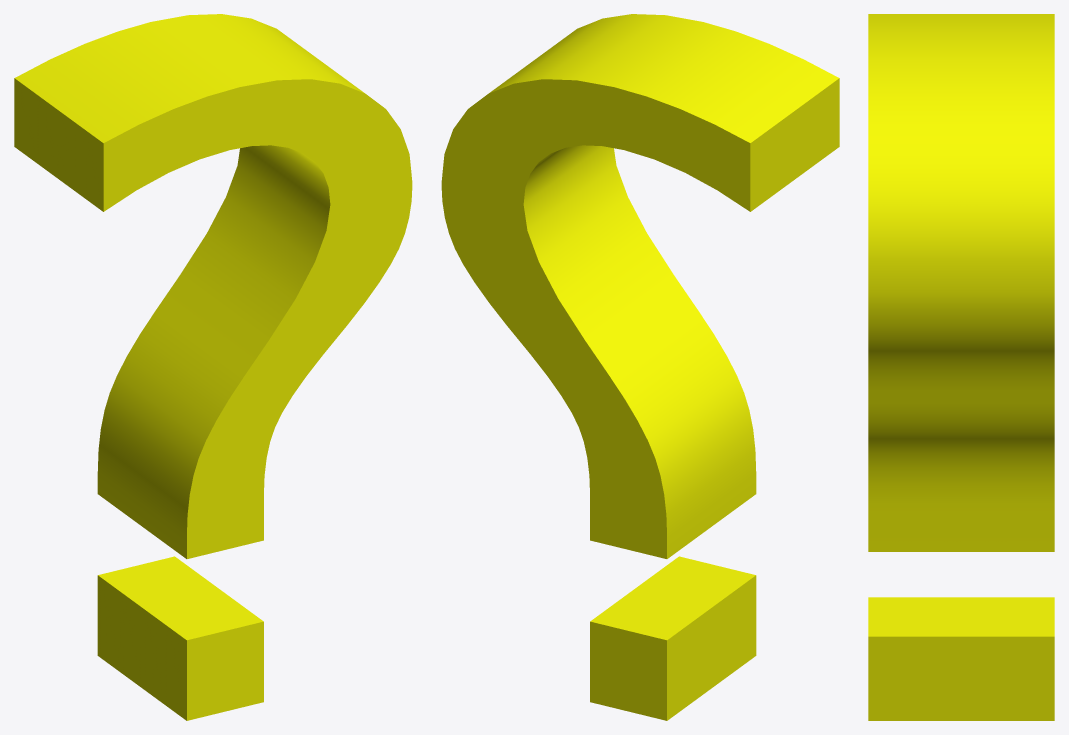
File: Blender.fbx
3 views of the same model, side by side, from view 1: azimuth 30°, elevation 25°; view 2: azimuth 150°, elevation 25°; view 3: azimuth 270°, elevation 25° (orthographic). The views are drawn at different scales.
Parts seen in each view (by area): view 1: typeMesh1; view 2: typeMesh1; view 3: typeMesh1.
Part boxes in pixels (x1,y1,x2,y2): typeMesh1: (14, 14, 412, 720); typeMesh1: (441, 14, 839, 720); typeMesh1: (868, 14, 1054, 720).
Size of the model in its own units: 5.01 by 9.62 by 2.5.
